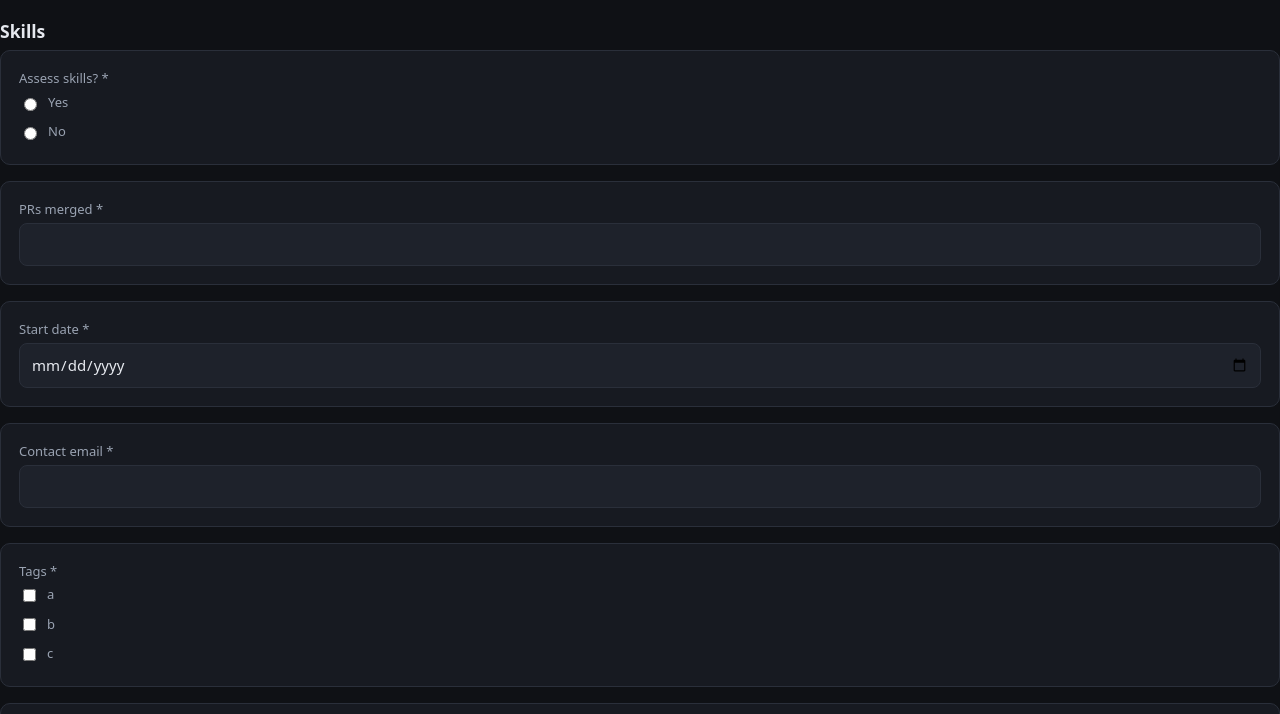
Test: SurveyResponseForm rendering › hides an opt-in section until its gate is answered Yes
expect the element "React" is not shown: met
Click the radio button labelled "Yes" at x=30, y=104, box [24, 98, 37, 111]
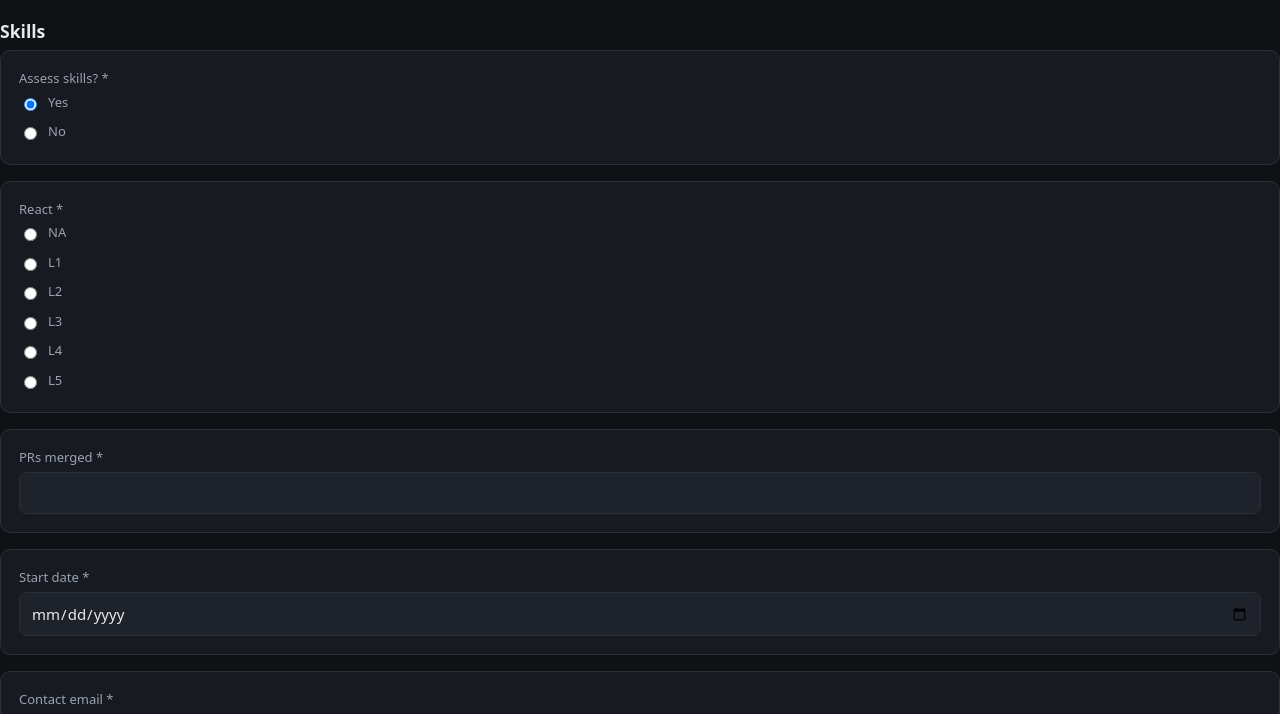
expect the element named "React" is shown: met, box [24, 223, 66, 389]
